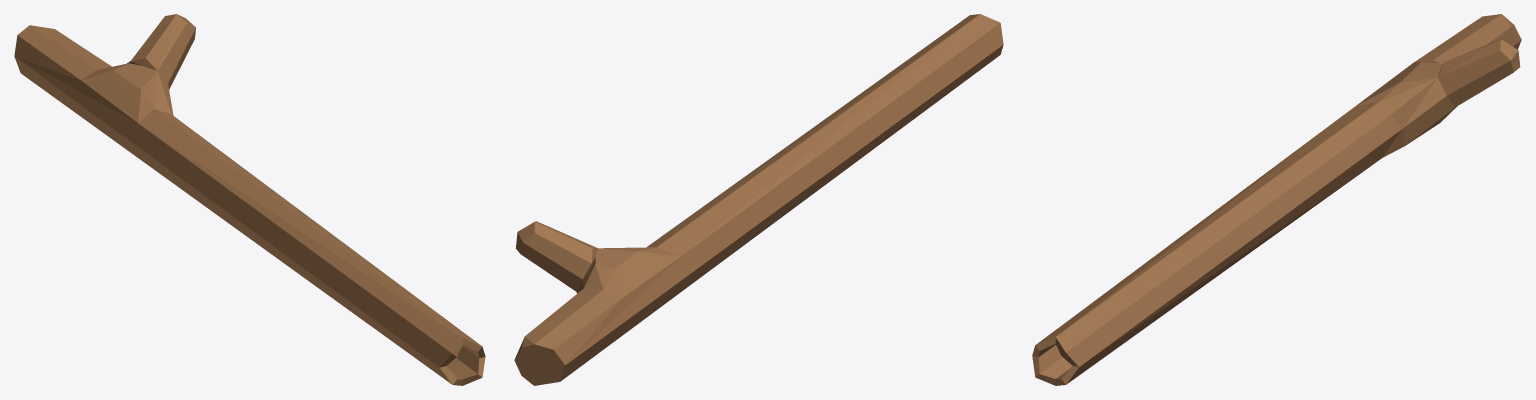
Rendered from Branch_1.fbx.
3 views of the same model, side by side, from view 1: azimuth 30°, elevation 25°; view 2: azimuth 150°, elevation 25°; view 3: azimuth 330°, elevation 25° (orthographic). The views are drawn at different scales.
Parts seen in each view (by area): view 1: Branch_mesh; view 2: Branch_mesh; view 3: Branch_mesh.
Part boxes in pixels (x1,y1,x2,y2): Branch_mesh: (14, 14, 485, 385); Branch_mesh: (514, 14, 1003, 385); Branch_mesh: (1032, 14, 1521, 385).
Size of the model in its own units: 22.06 by 17.35 by 150.
